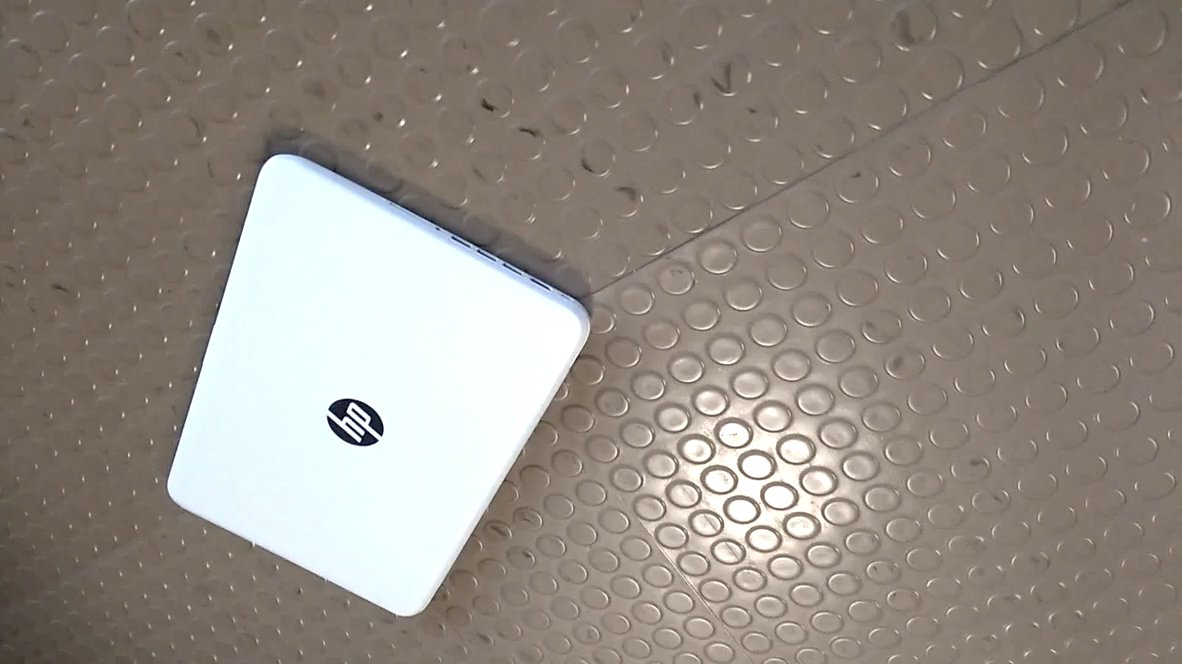laptop: (154, 125, 594, 632)
